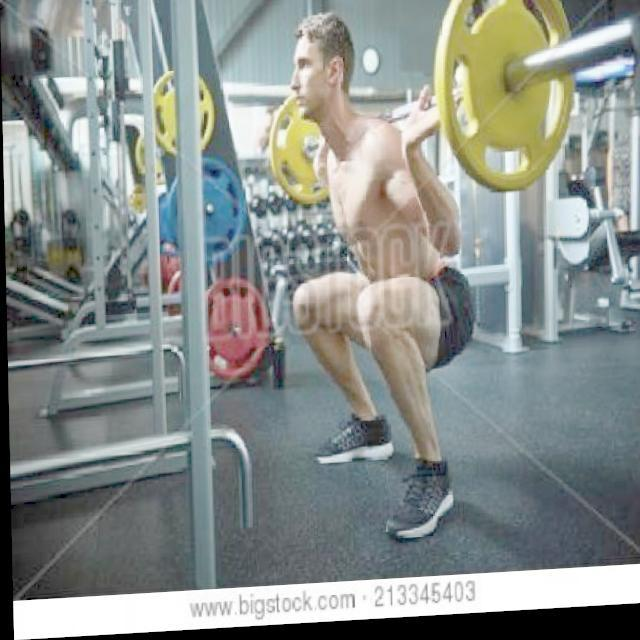barbell: (428, 1, 640, 207)
